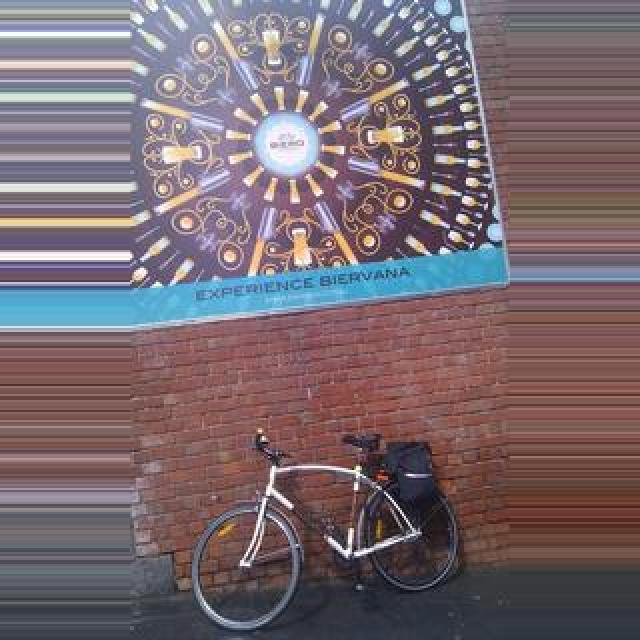Person: (190, 429, 460, 631)
